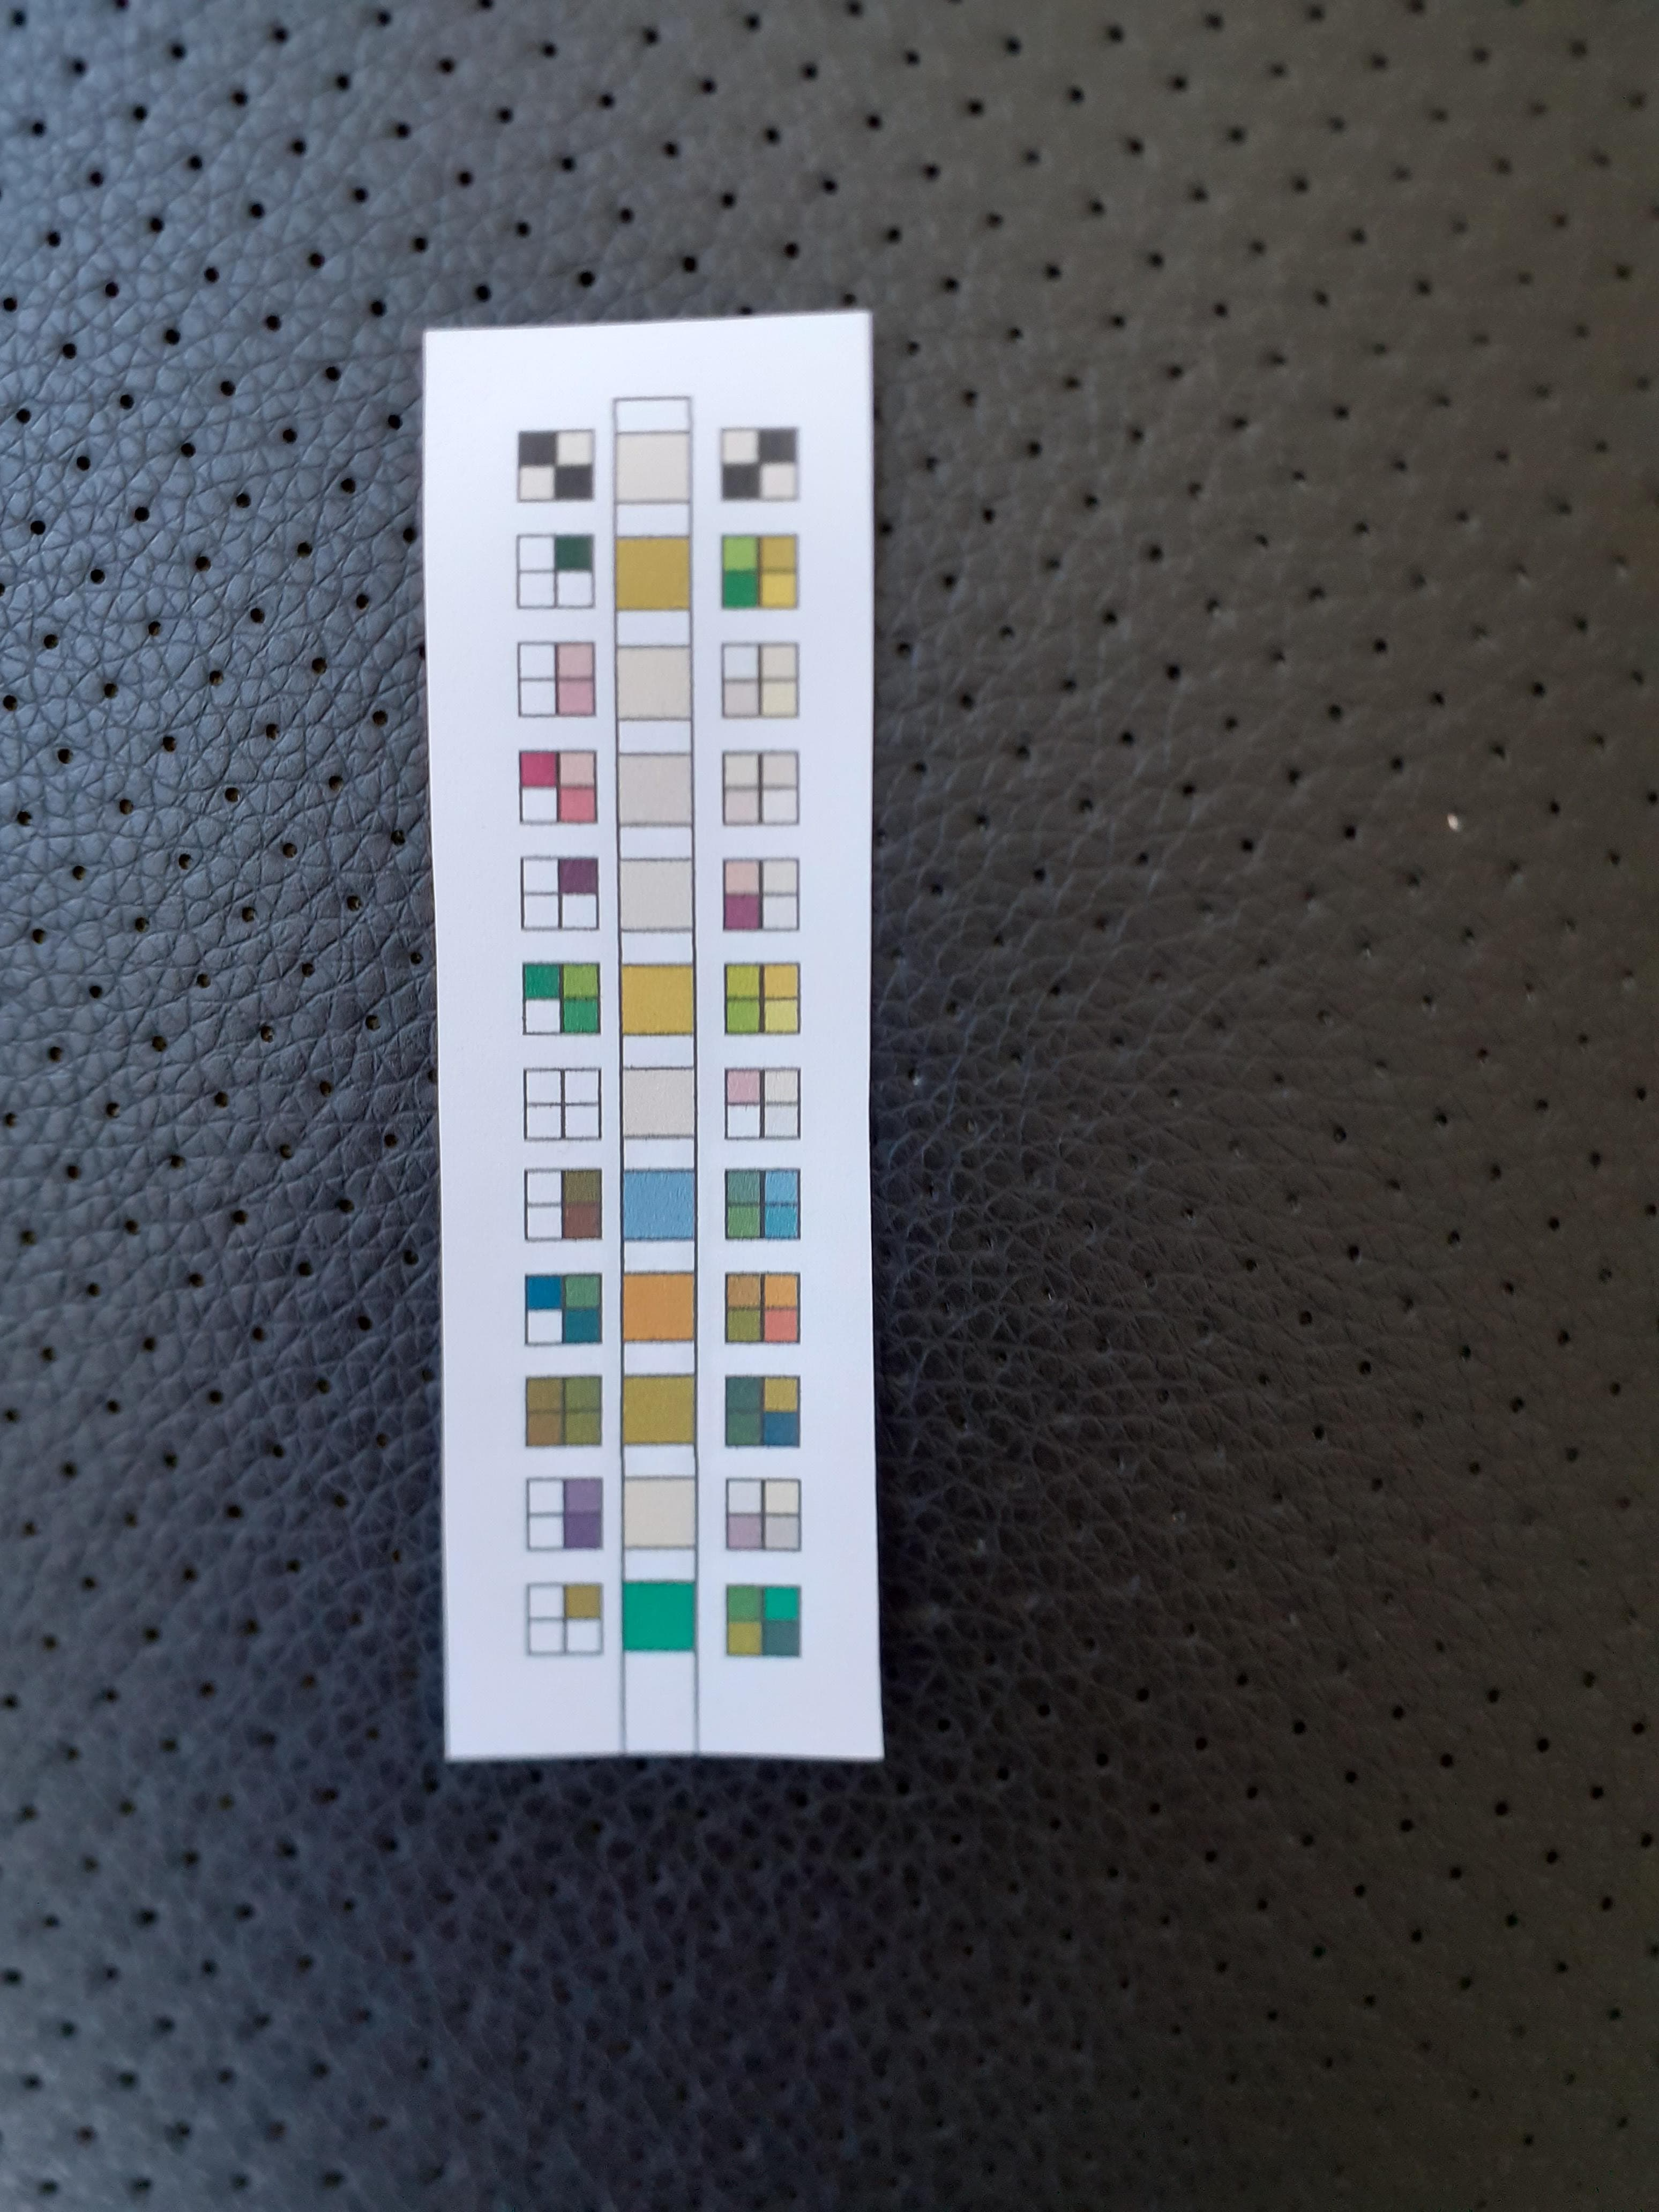tester: (432, 331, 882, 1763)
